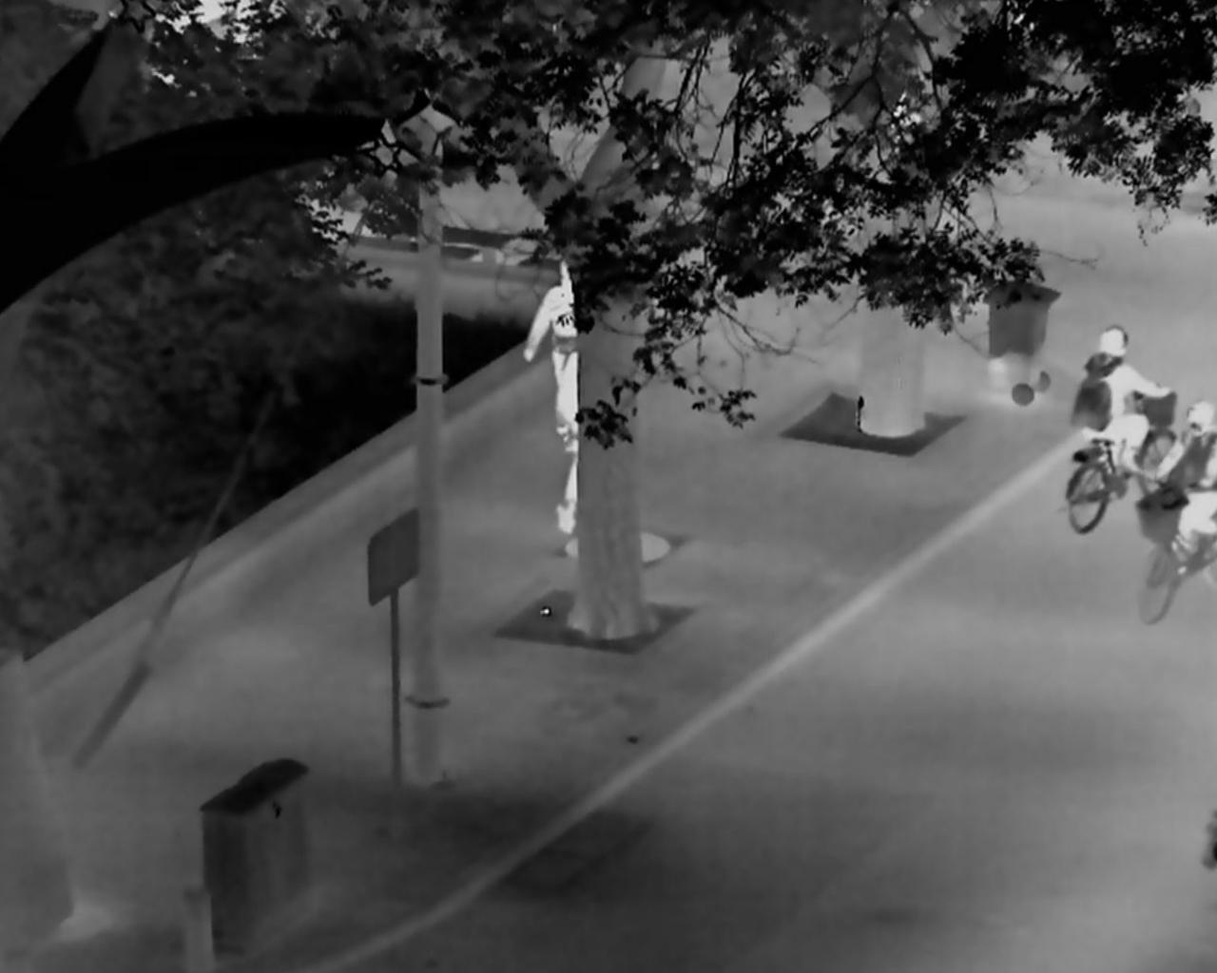person: (1072, 326, 1169, 473), (1155, 399, 1217, 573), (524, 259, 579, 438), (558, 353, 578, 536)
